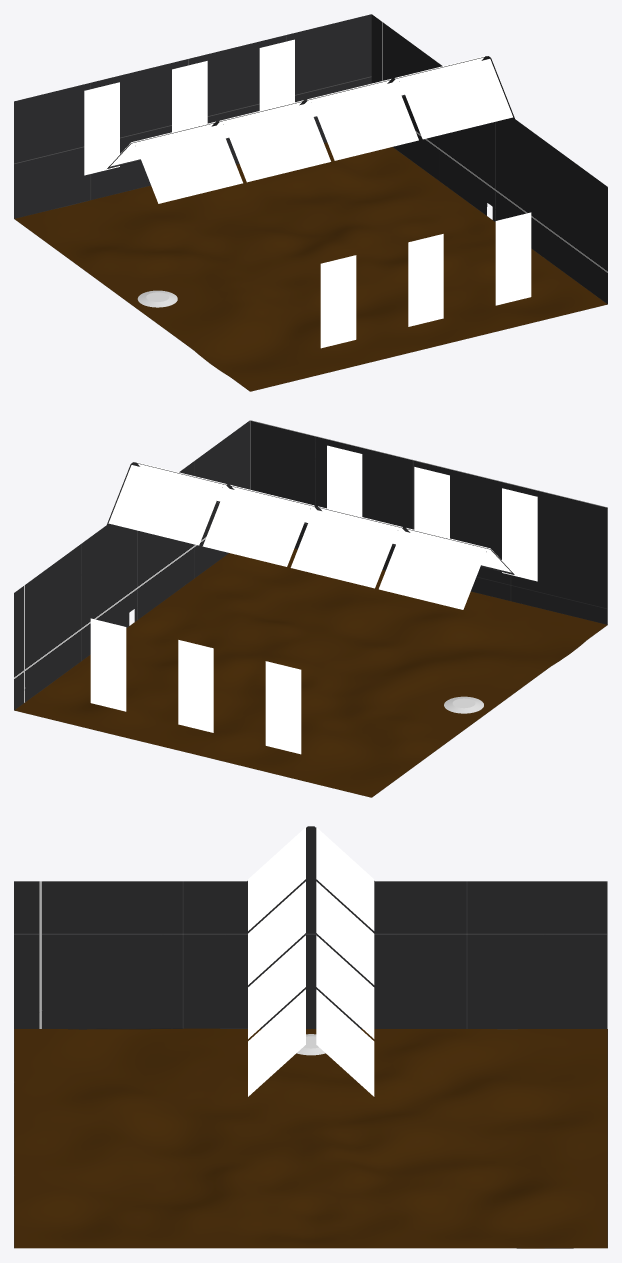
File: nivel_3.glb
3 views of the same model, one above another, from view 1: azimuth 30°, elevation 25°; view 2: azimuth 150°, elevation 25°; view 3: azimuth 270°, elevation 25° (orthographic). The views are drawn at different scales.
Visible parts, largest first — view 1: Cube.001, Cylinder; view 2: Cube.001, Cylinder; view 3: Cube.001.
Part boxes in pixels (left/top/right/bottom): Cube.001: left=14, top=14, right=607, bottom=391; Cylinder: left=137, top=290, right=177, bottom=307; Cube.001: left=14, top=420, right=607, bottom=797; Cylinder: left=444, top=696, right=483, bottom=713; Cube.001: left=14, top=826, right=607, bottom=1248.
Bounding box in the file's own units: 63.55 × 28.43 × 72.56.
Materials: 6 (2 with a texture image).
